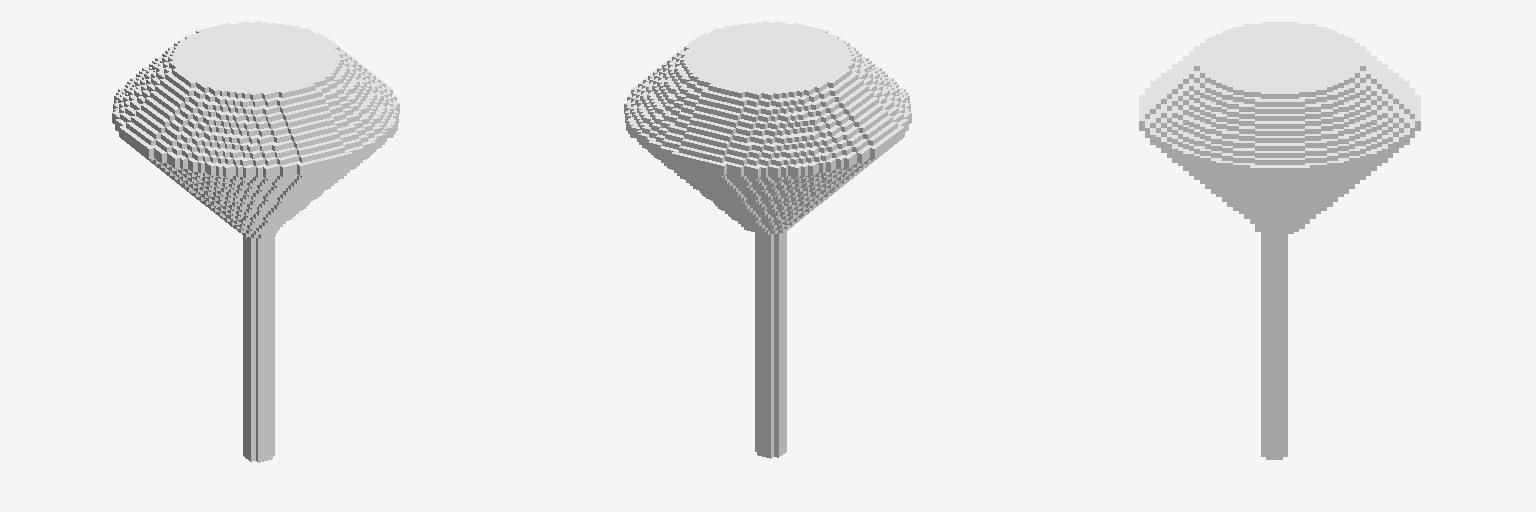
File: AirSpike.obj
3 renders of one model, left to right at view 1: azimuth 30°, elevation 25°; view 2: azimuth 150°, elevation 25°; view 3: azimuth 270°, elevation 25°, orthographic.
Visible parts, largest first — view 1: object 1; view 2: object 1; view 3: object 1.
Boxes of the visible parts, box(x1,y1,x2,y2) form: object 1: box(112, 21, 399, 462); object 1: box(624, 21, 911, 458); object 1: box(1139, 22, 1420, 459).
Size of the model in its own units: 5.1 by 7.9 by 5.1.